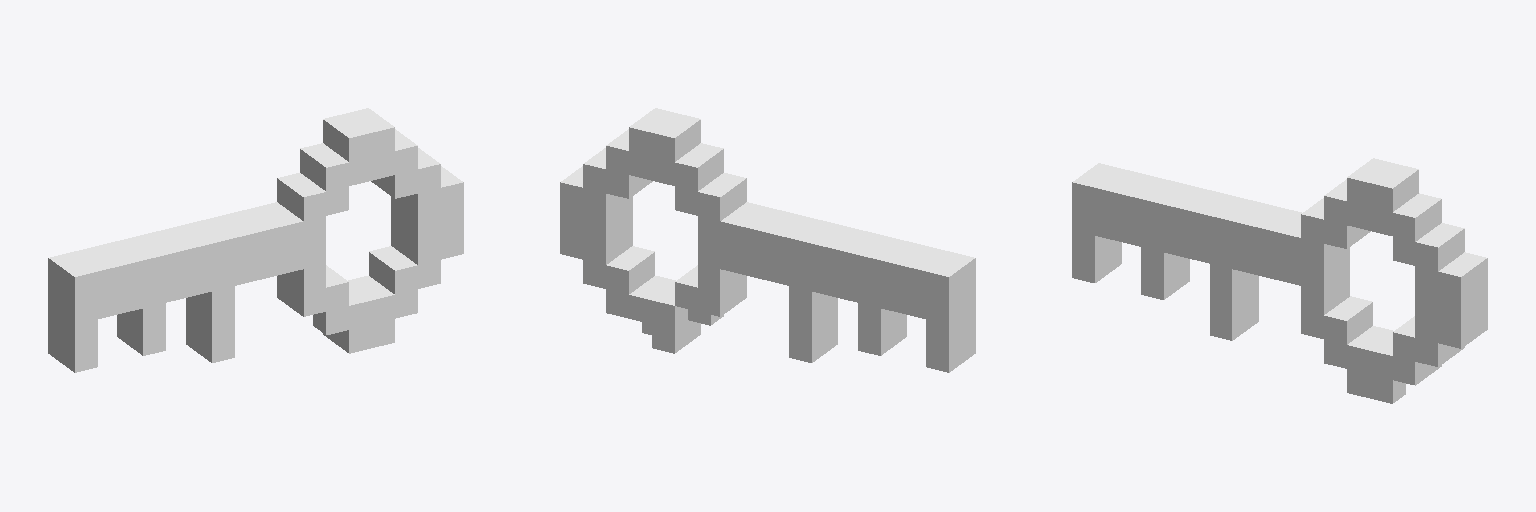
The model's file is v_Schlüssel.obj.
The picture shows the model from 3 angles: view 1: azimuth 30°, elevation 25°; view 2: azimuth 150°, elevation 25°; view 3: azimuth 330°, elevation 25°; orthographic projection.
Parts seen in each view (by area): view 1: object 1; view 2: object 1; view 3: object 1.
Part boxes in pixels (bbox=[...]): object 1: bbox=[48, 108, 463, 372]; object 1: bbox=[560, 108, 975, 372]; object 1: bbox=[1072, 158, 1487, 403].
Size of the model in its own units: 1.7 by 0.9 by 0.2.